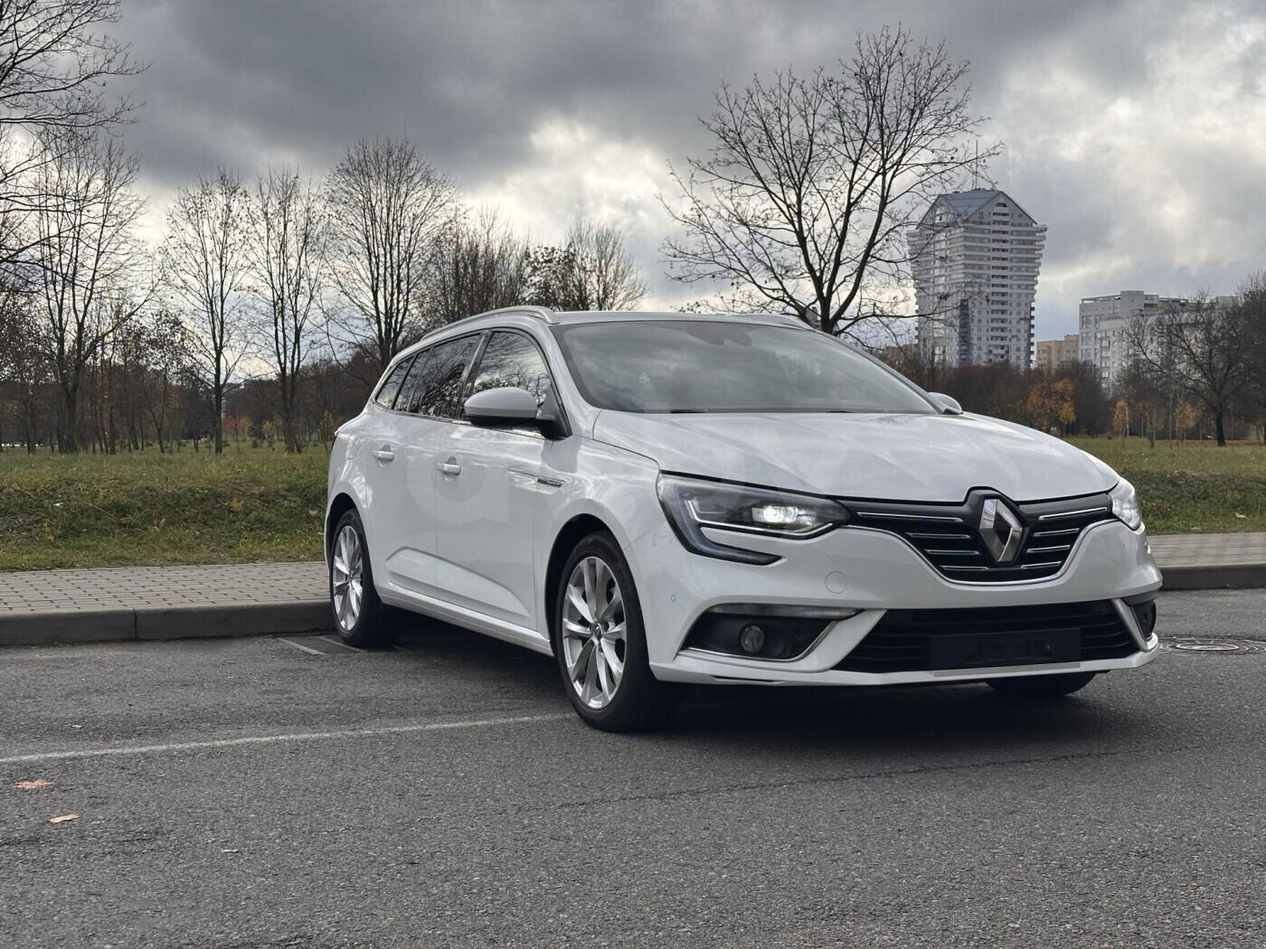Megane_2016-2020: (319, 298, 1172, 732)
